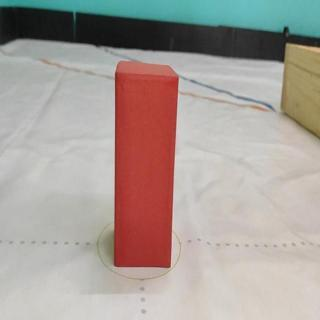redbox: (113, 59, 178, 268)
